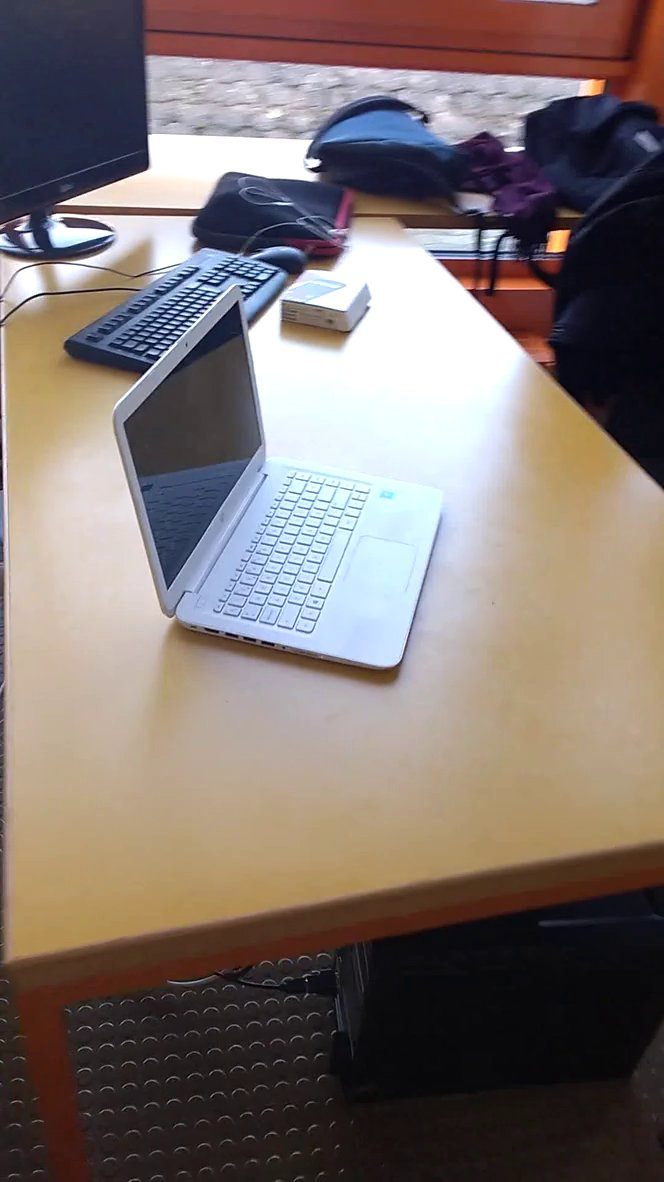laptop: (104, 276, 474, 689)
